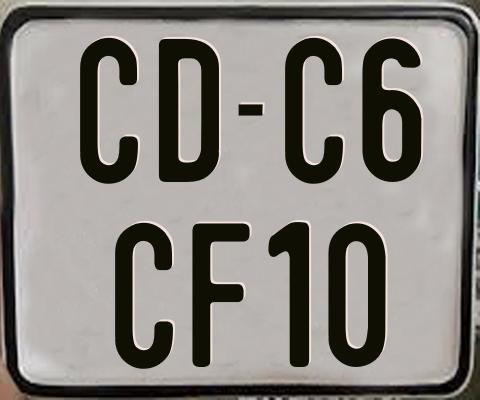0: (328, 221, 390, 369)
1: (268, 221, 314, 372)
6: (359, 36, 422, 186)
C: (282, 38, 346, 188), (113, 220, 173, 369), (77, 38, 136, 189)
D: (159, 39, 219, 184)
F: (192, 223, 250, 367)
